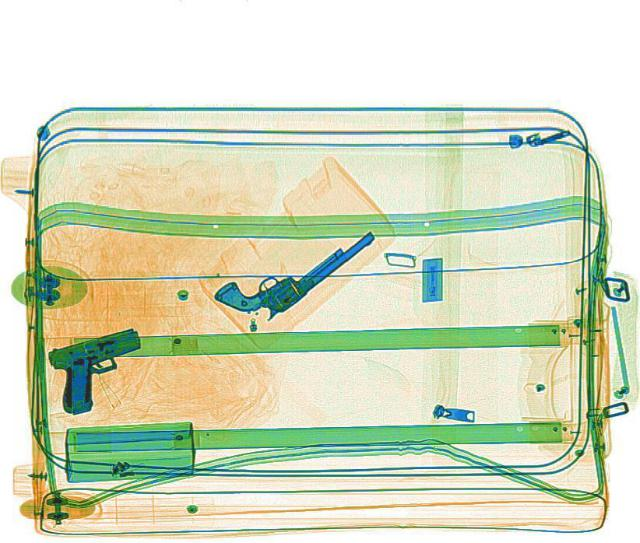Gun: (208, 210, 394, 331), (40, 324, 164, 412)
